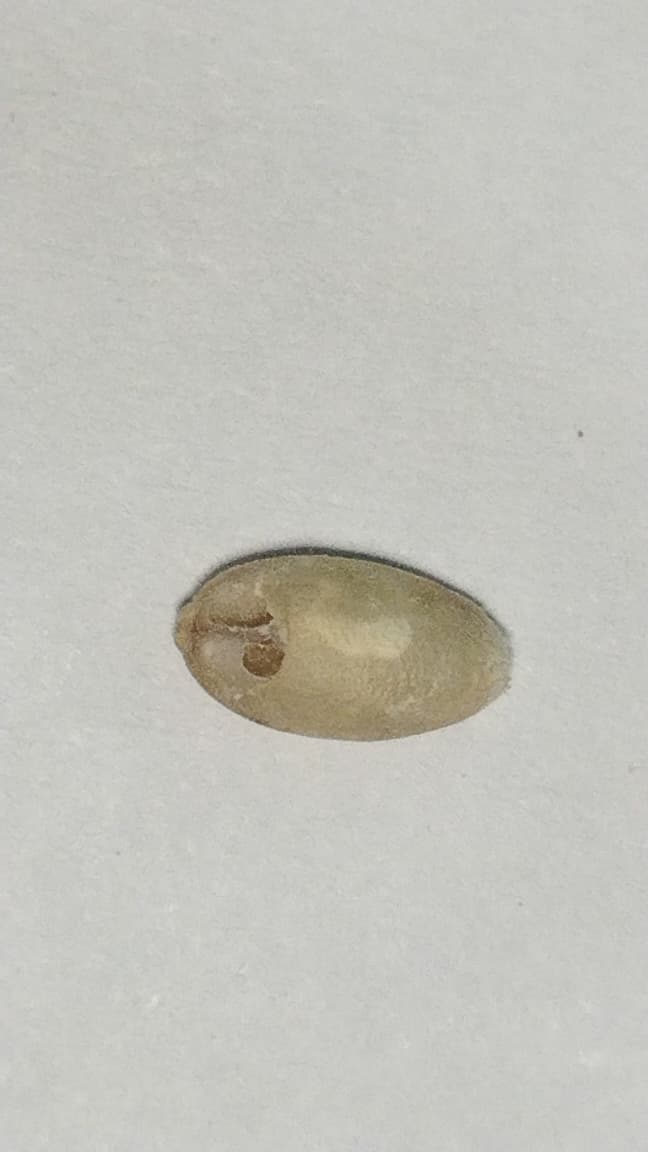damage: (166, 529, 524, 754)
insectdamage: (194, 585, 303, 696)
